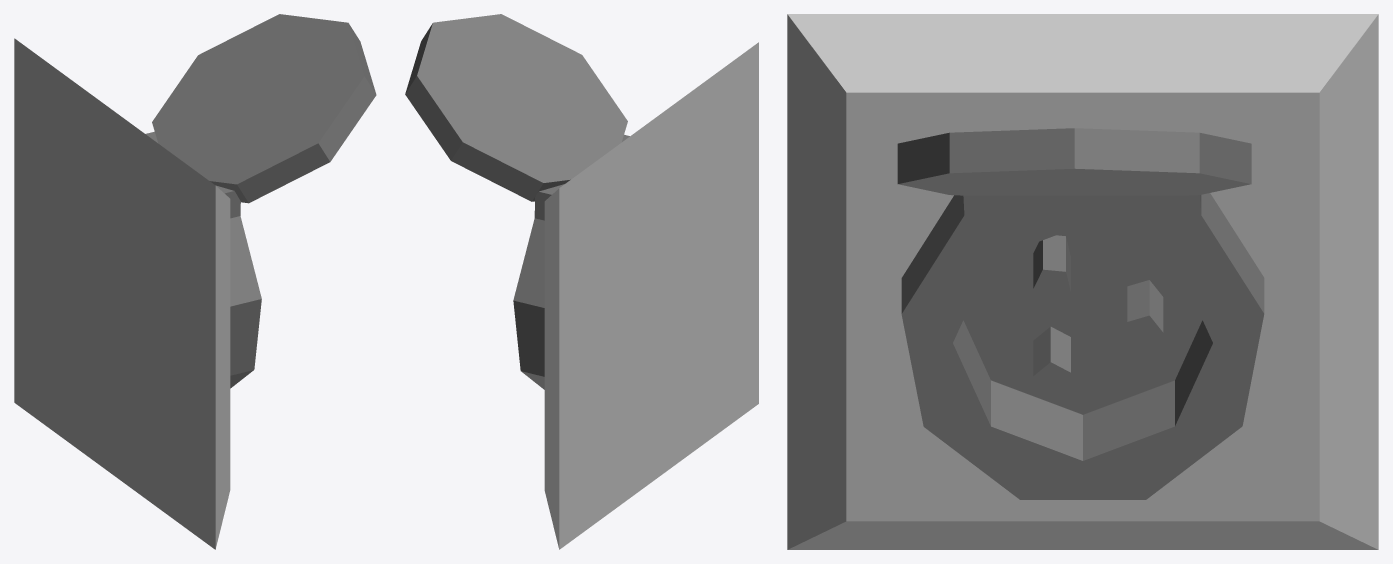
Rendered from socket800.obj.
The picture shows the model from 3 angles, left to right: view 1: azimuth 30°, elevation 25°; view 2: azimuth 150°, elevation 25°; view 3: azimuth 270°, elevation 25°; orthographic projection. The views are drawn at different scales.
Visible parts, largest first — view 1: SocketBase.001, Cylinder; view 2: SocketBase.001, Cylinder; view 3: SocketBase.001, Cylinder.
Boxes of the visible parts, x1,y1,x2,y2 form: SocketBase.001: [14, 38, 230, 549]; Cylinder: [146, 14, 376, 388]; SocketBase.001: [544, 42, 758, 549]; Cylinder: [405, 14, 629, 389]; SocketBase.001: [787, 14, 1378, 549]; Cylinder: [897, 128, 1264, 499].
Size of the model in its own units: 0.2177 by 0.3424 by 0.3125.
